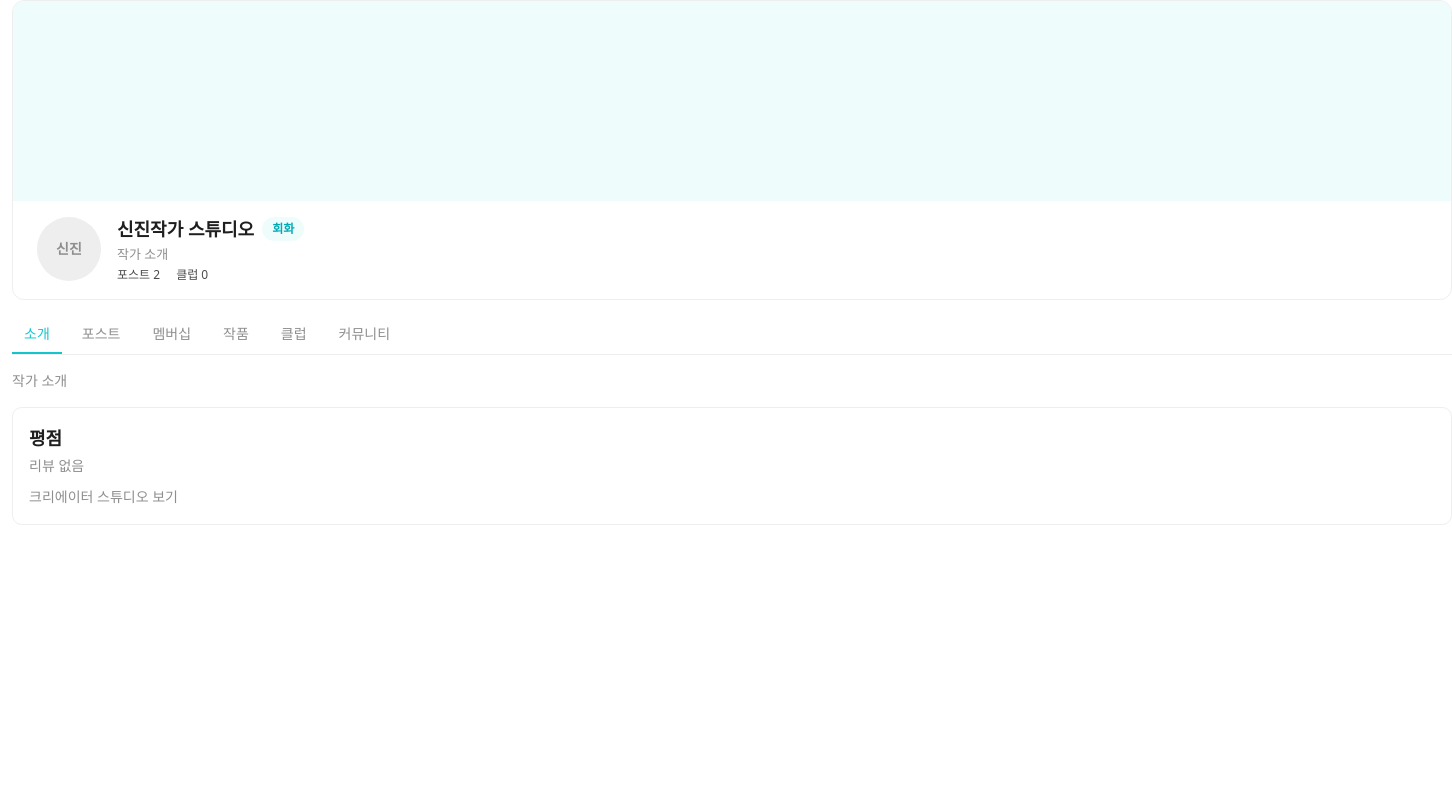
Test: /creators/[creatorId] (AC-002, AC-003, AC-007) › renders >=2 posts with visibility badges (AC-002)
Click the tab "포스트" at [101, 335], box top-left (70, 316), bottom-right (132, 354)
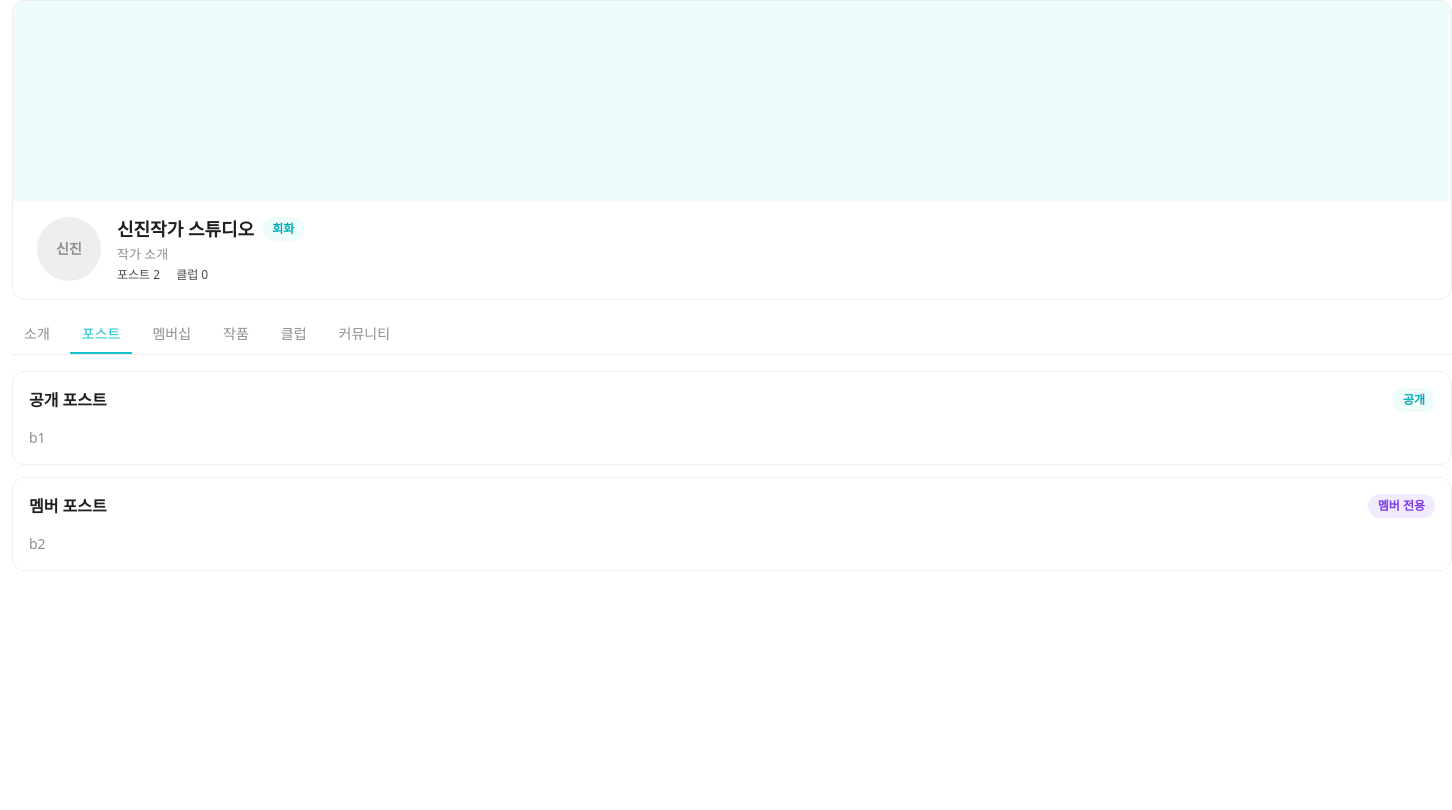
Result: the text "공개 포스트" is shown at top-left (29, 389), bottom-right (107, 411)
Result: the text "멤버 포스트" is shown at top-left (29, 495), bottom-right (107, 517)
Result: the text "공개" is shown at top-left (1393, 388), bottom-right (1435, 412)
